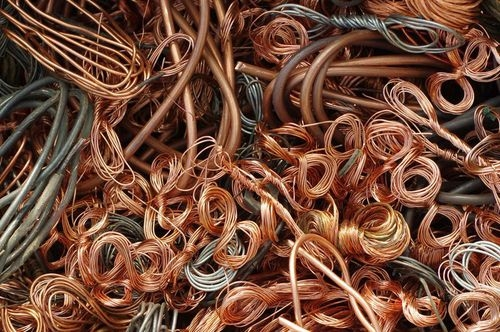metal: (1, 69, 96, 287), (383, 80, 500, 187), (267, 2, 475, 61), (276, 219, 384, 332), (282, 103, 368, 204), (360, 113, 445, 209), (214, 262, 328, 330), (75, 228, 178, 296), (187, 186, 269, 270), (27, 268, 105, 332), (435, 17, 500, 87), (349, 197, 411, 268), (416, 201, 479, 255), (419, 61, 483, 112), (440, 281, 500, 332)
